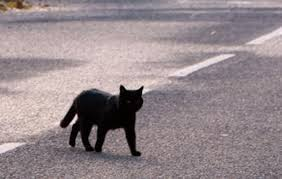cat: (59, 83, 145, 159)
